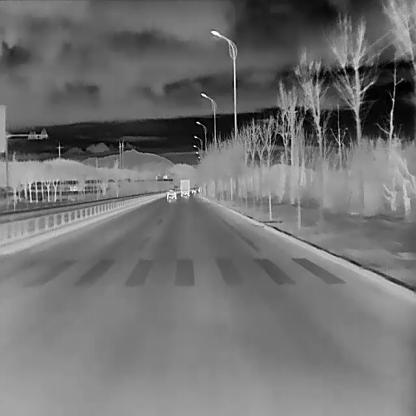car: (166, 187, 176, 199), (191, 187, 196, 193)
truck: (179, 179, 190, 195)
